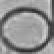no answer: (1, 6, 54, 54)
